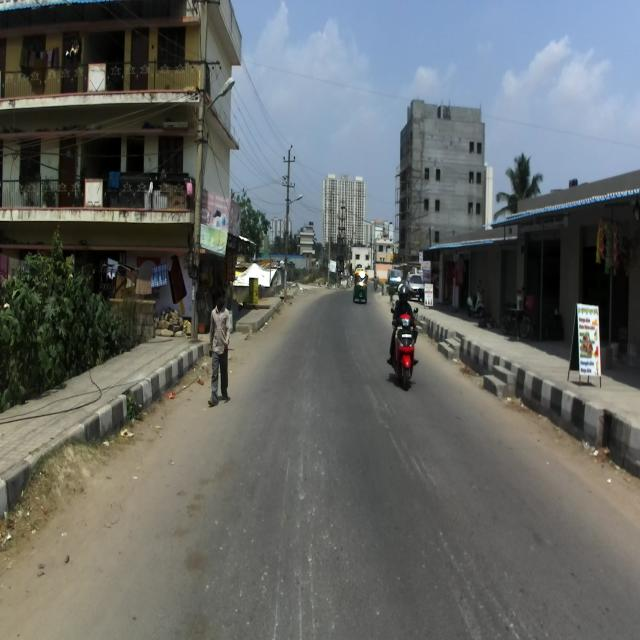motorcycle ahead at: (387, 308, 422, 390)
person ahead at: (204, 281, 234, 410)
